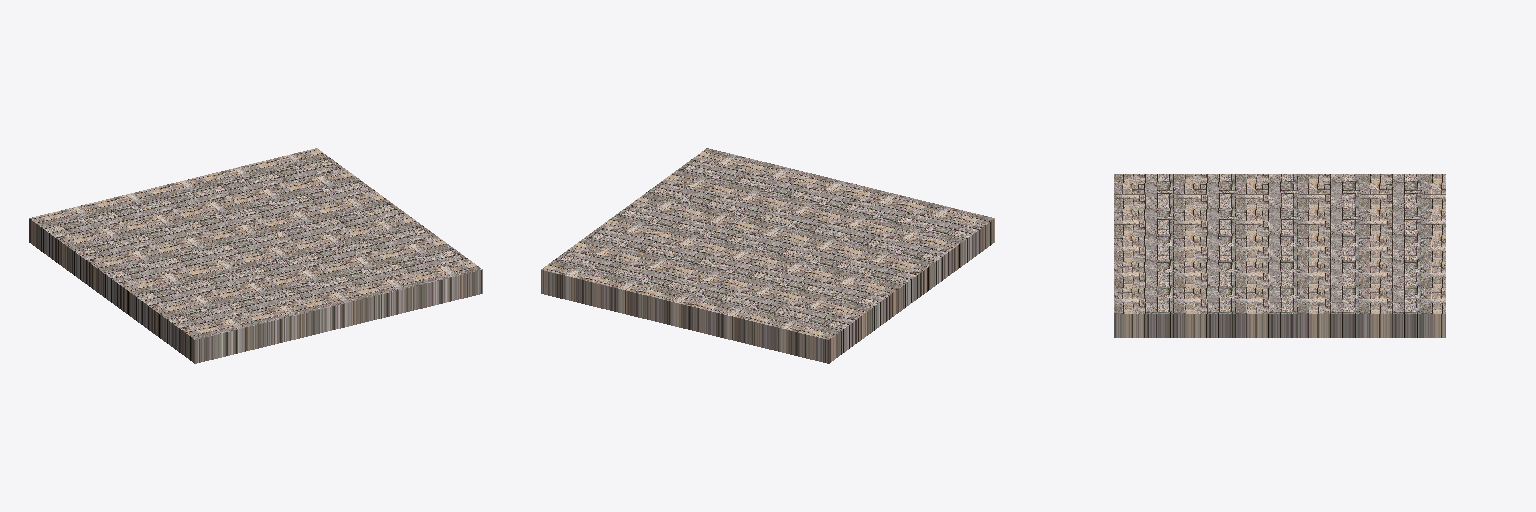
3 renders of one model, left to right at view 1: azimuth 30°, elevation 25°; view 2: azimuth 150°, elevation 25°; view 3: azimuth 270°, elevation 25°, orthographic.
Parts seen in each view (by area): view 1: Cube_Cube.001; view 2: Cube_Cube.001; view 3: Cube_Cube.001.
Boxes of the visible parts, box(x1,y1,x2,y2) form: Cube_Cube.001: box(29, 148, 482, 363); Cube_Cube.001: box(541, 148, 994, 363); Cube_Cube.001: box(1114, 174, 1445, 337).
Bounding box in the file's own units: 16.56 × 1.32 × 16.56.
Materials: 1 (1 with a texture image).